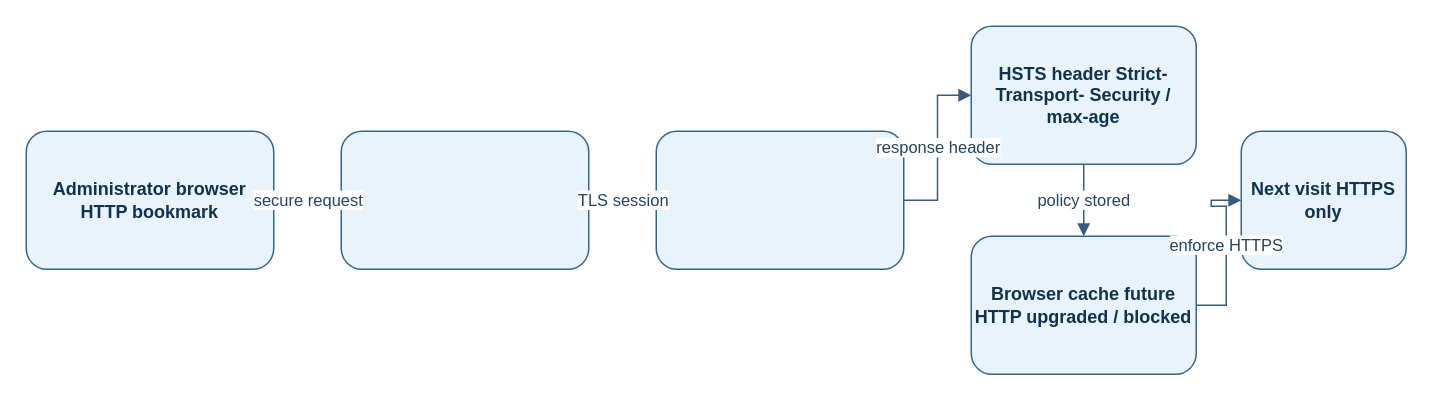
This 1433x401 diagram has some shape labels left out. Each missing label, with the centre of its shape:
"FortiNAC Admin GUI HTTPS response" goes at point (779, 199).
"HTTPS / TLS certificate hostname validation" goes at point (464, 199).
